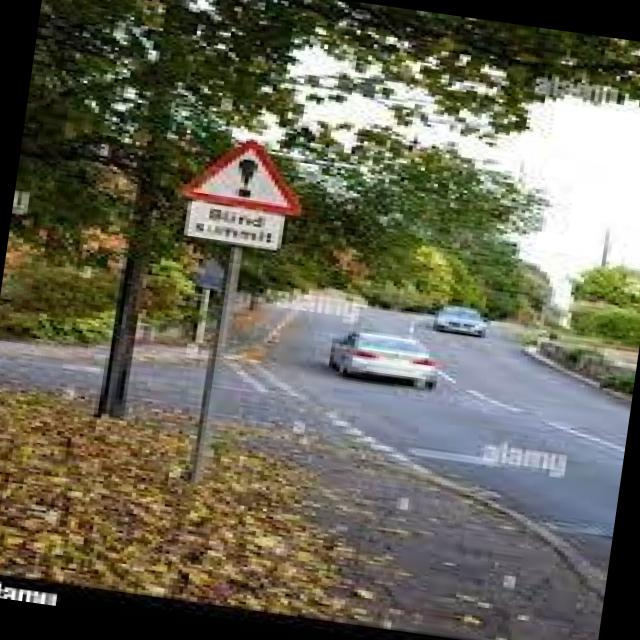warning: (171, 130, 334, 220)
